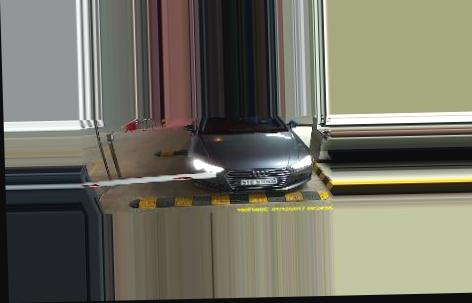License_Plate: (240, 176, 279, 187)
